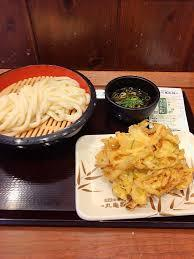kakiage: (106, 128, 187, 200)
